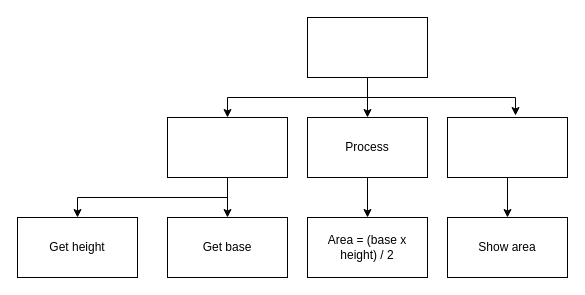
This 585x295 diagram has some shape labels left out. The centre of each missing label's shape, as x and y in pixels:
Area of a Triangle: point 367,47
Input: point 227,147
Output: point 507,147
